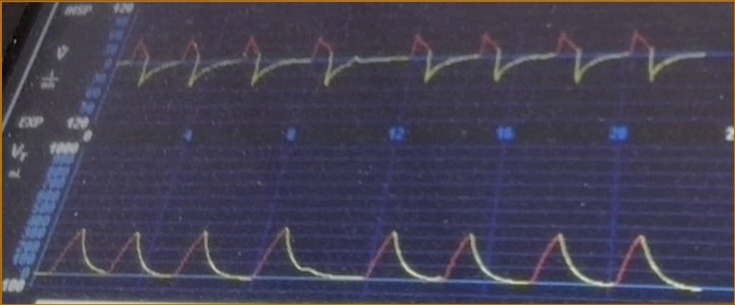Ineffective_effort Flow: (125, 20, 705, 113)
Ineffective_effort Volume: (50, 215, 700, 295)
